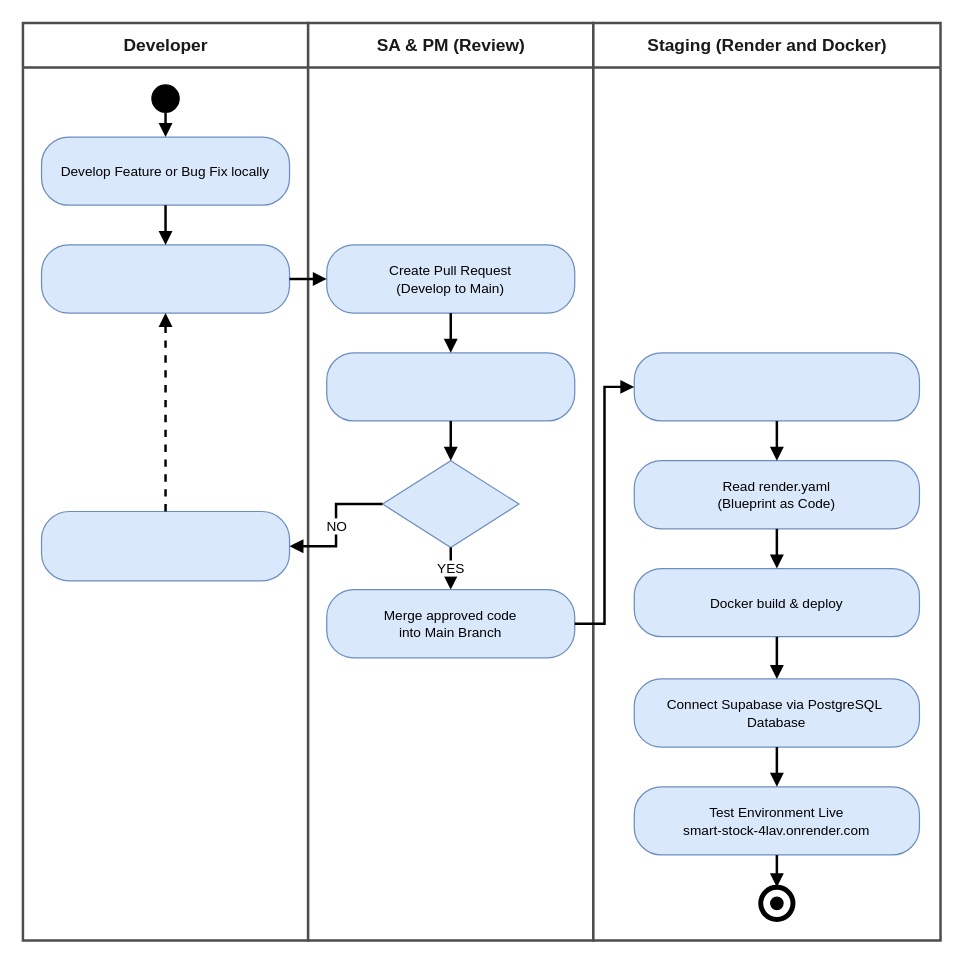
This 962x962 diagram has some shape labels left out. The shapes that lost their labels are listed below. From the top down, each one's centre as x and y in pixels, then its label:
point 165,278: Push changes to Develop Branch
point 450,386: Conduct Code Review
point 776,386: Render detects new commit on Main Branch (webhook)
point 450,503: Code Passed?
point 165,545: Revise Code based on feedback
